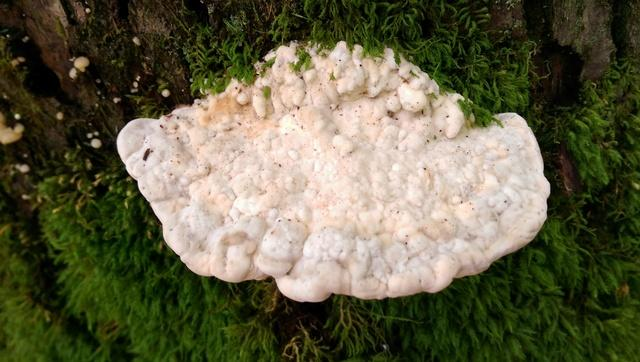poisonous_mushroom: (115, 38, 552, 303)
